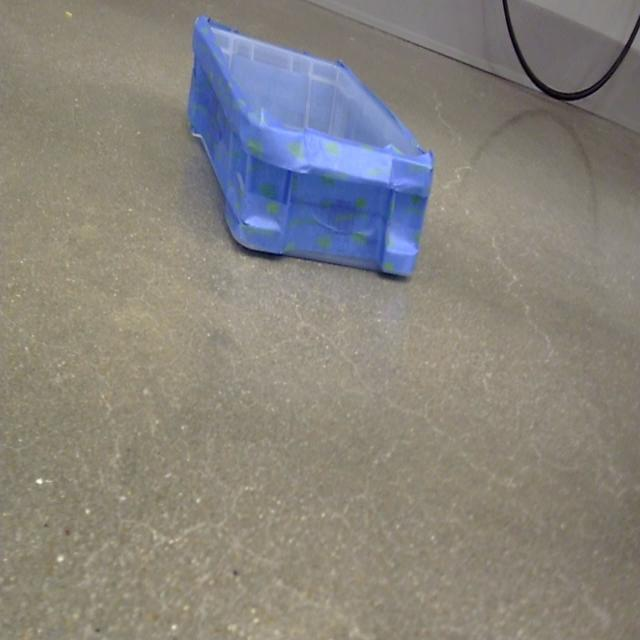bucket: (186, 15, 436, 283)
